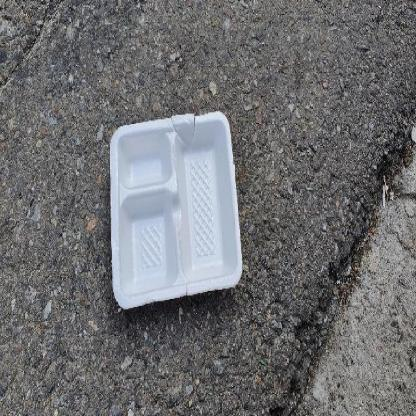Glass Cup: (109, 112, 243, 310), (110, 111, 242, 310)
